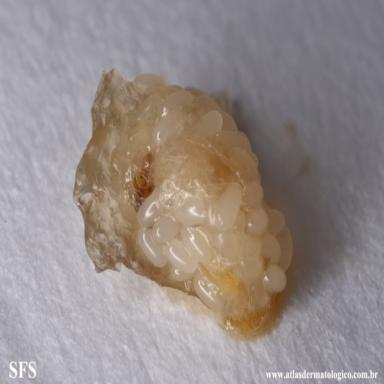Tungiasis: (73, 70, 293, 336)
